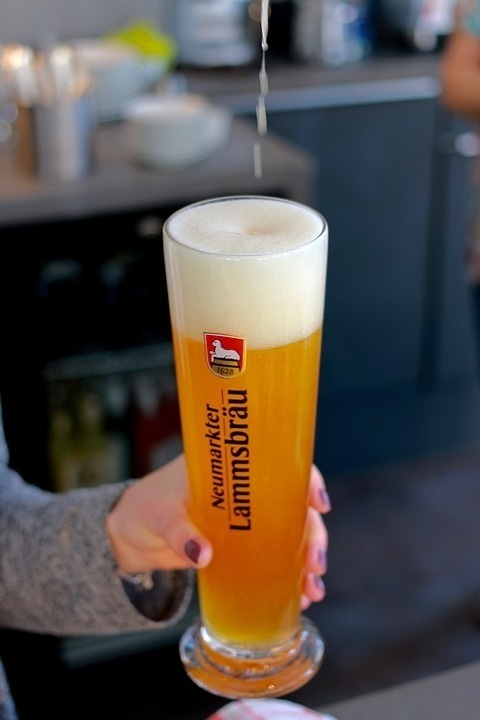whiskey: (155, 189, 332, 689)
